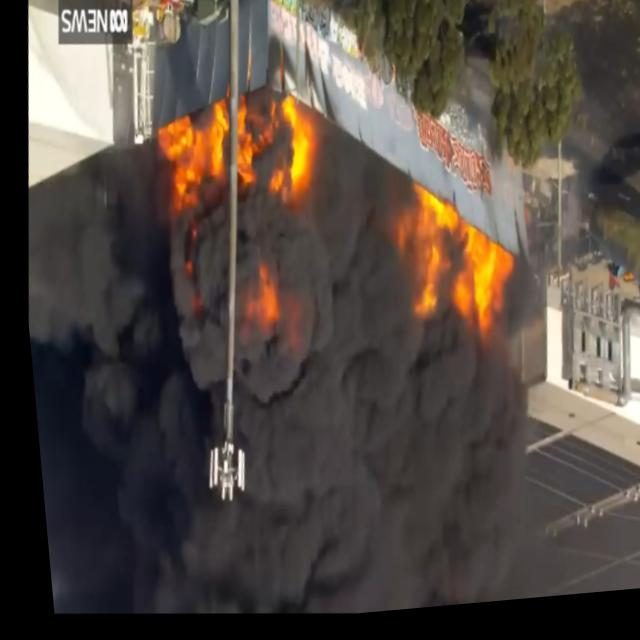Fire: (136, 90, 336, 366), (374, 178, 524, 360)
